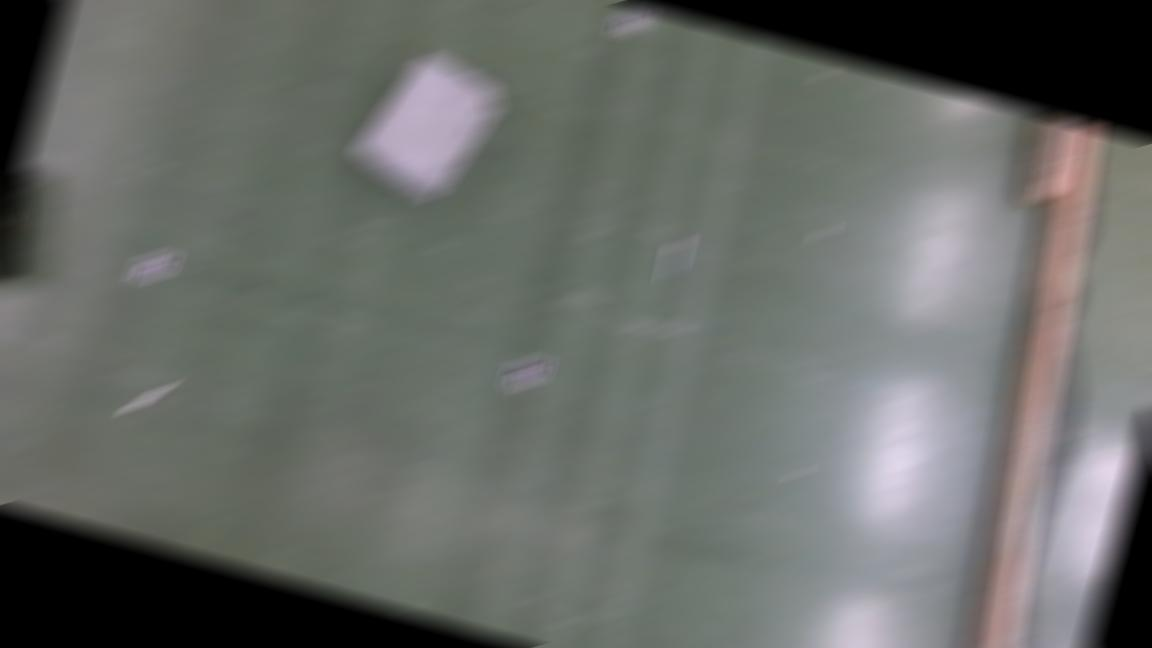probes: (124, 378, 170, 421), (660, 241, 689, 280)
rako: (344, 45, 508, 213), (0, 165, 49, 299)
